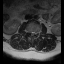CCS_stenosis: (31, 30, 33, 37)
LFS_normal: (35, 30, 37, 37)
LLS_normal: (33, 30, 35, 37)
RFS_stenosis: (28, 29, 30, 35)
RLS_severe_stenosis: (30, 29, 31, 36)
